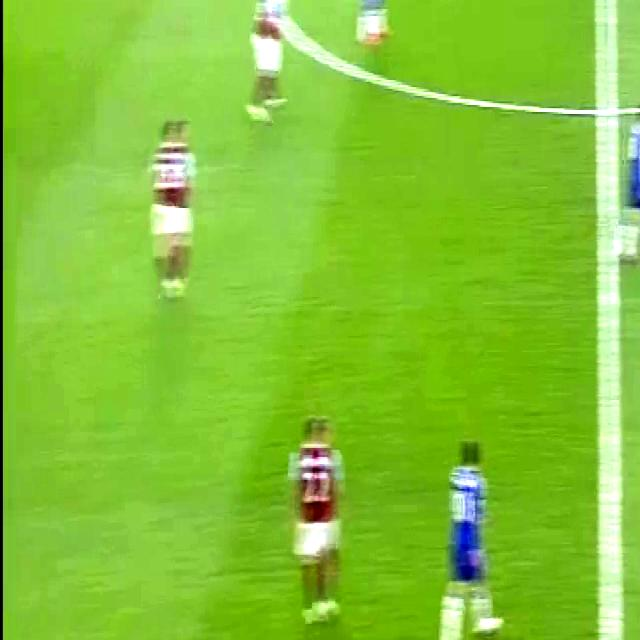soccer-player: (277, 395, 360, 634), (431, 419, 509, 634), (138, 107, 204, 308), (243, 0, 292, 128), (615, 103, 640, 274), (348, 0, 403, 66)
